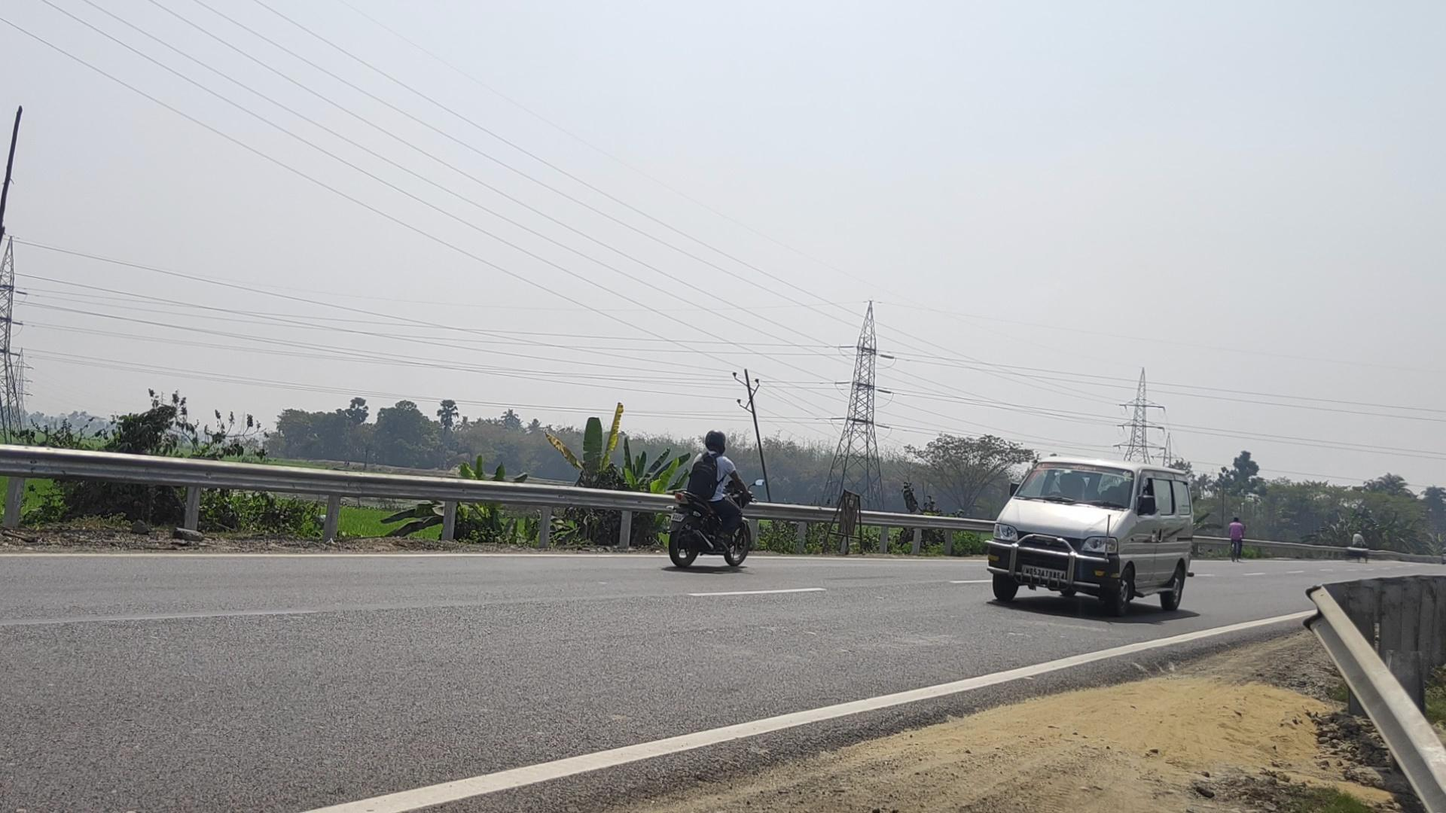bike: (666, 430, 764, 567), (1228, 517, 1246, 562)
van: (985, 455, 1196, 616)
